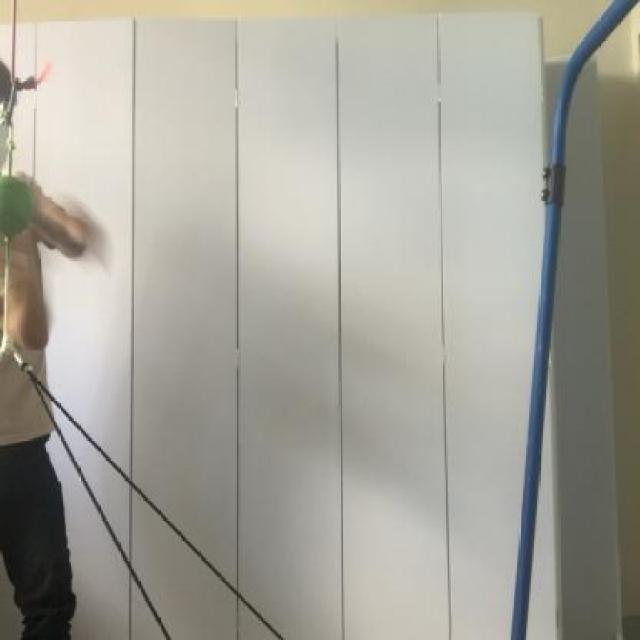baseball: (0, 171, 34, 238)
